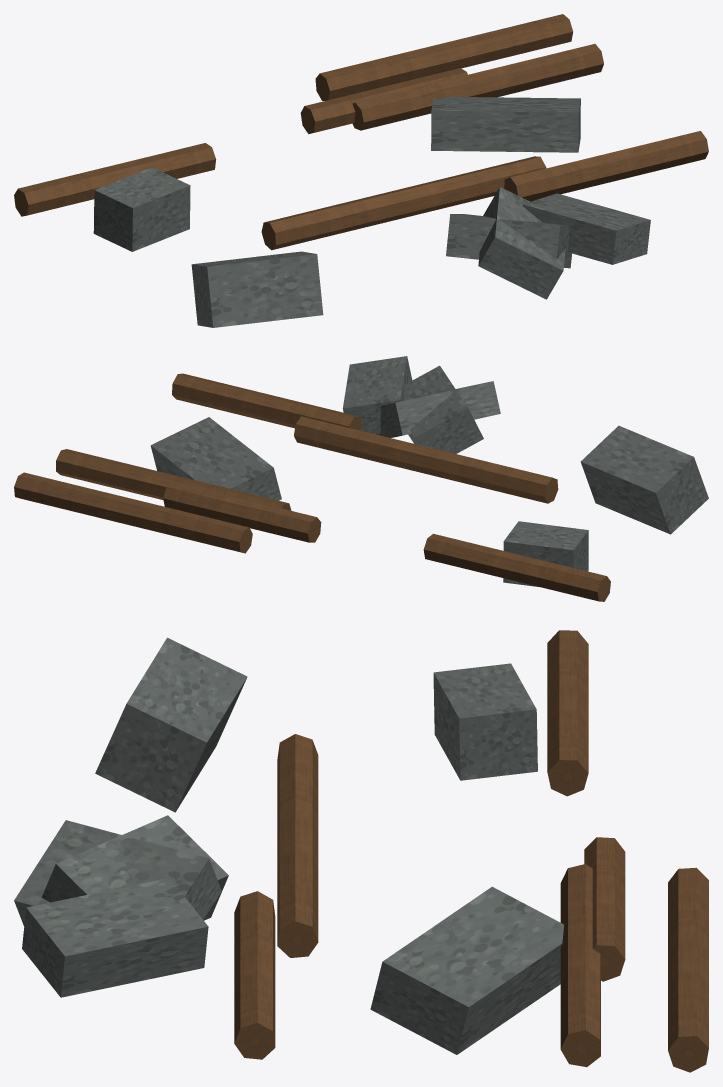
File: en-015_cave_floor_debris_set__branches.obj
The picture shows the model from 3 angles, top to bottom: view 1: azimuth 30°, elevation 25°; view 2: azimuth 150°, elevation 25°; view 3: azimuth 270°, elevation 25°; orthographic projection. The views are drawn at different scales.
Parts seen in each view (by area): view 1: en-015_cave_floor_debris_set__branches; view 2: en-015_cave_floor_debris_set__branches; view 3: en-015_cave_floor_debris_set__branches.
Boxes of the visible parts, box(x1,y1,x2,y2) form: en-015_cave_floor_debris_set__branches: box(14, 14, 708, 327); en-015_cave_floor_debris_set__branches: box(14, 356, 708, 601); en-015_cave_floor_debris_set__branches: box(14, 630, 708, 1072).
Bounding box in the file's own units: 1.6 × 0.1898 × 1.15.
2 materials, 2 textured.
